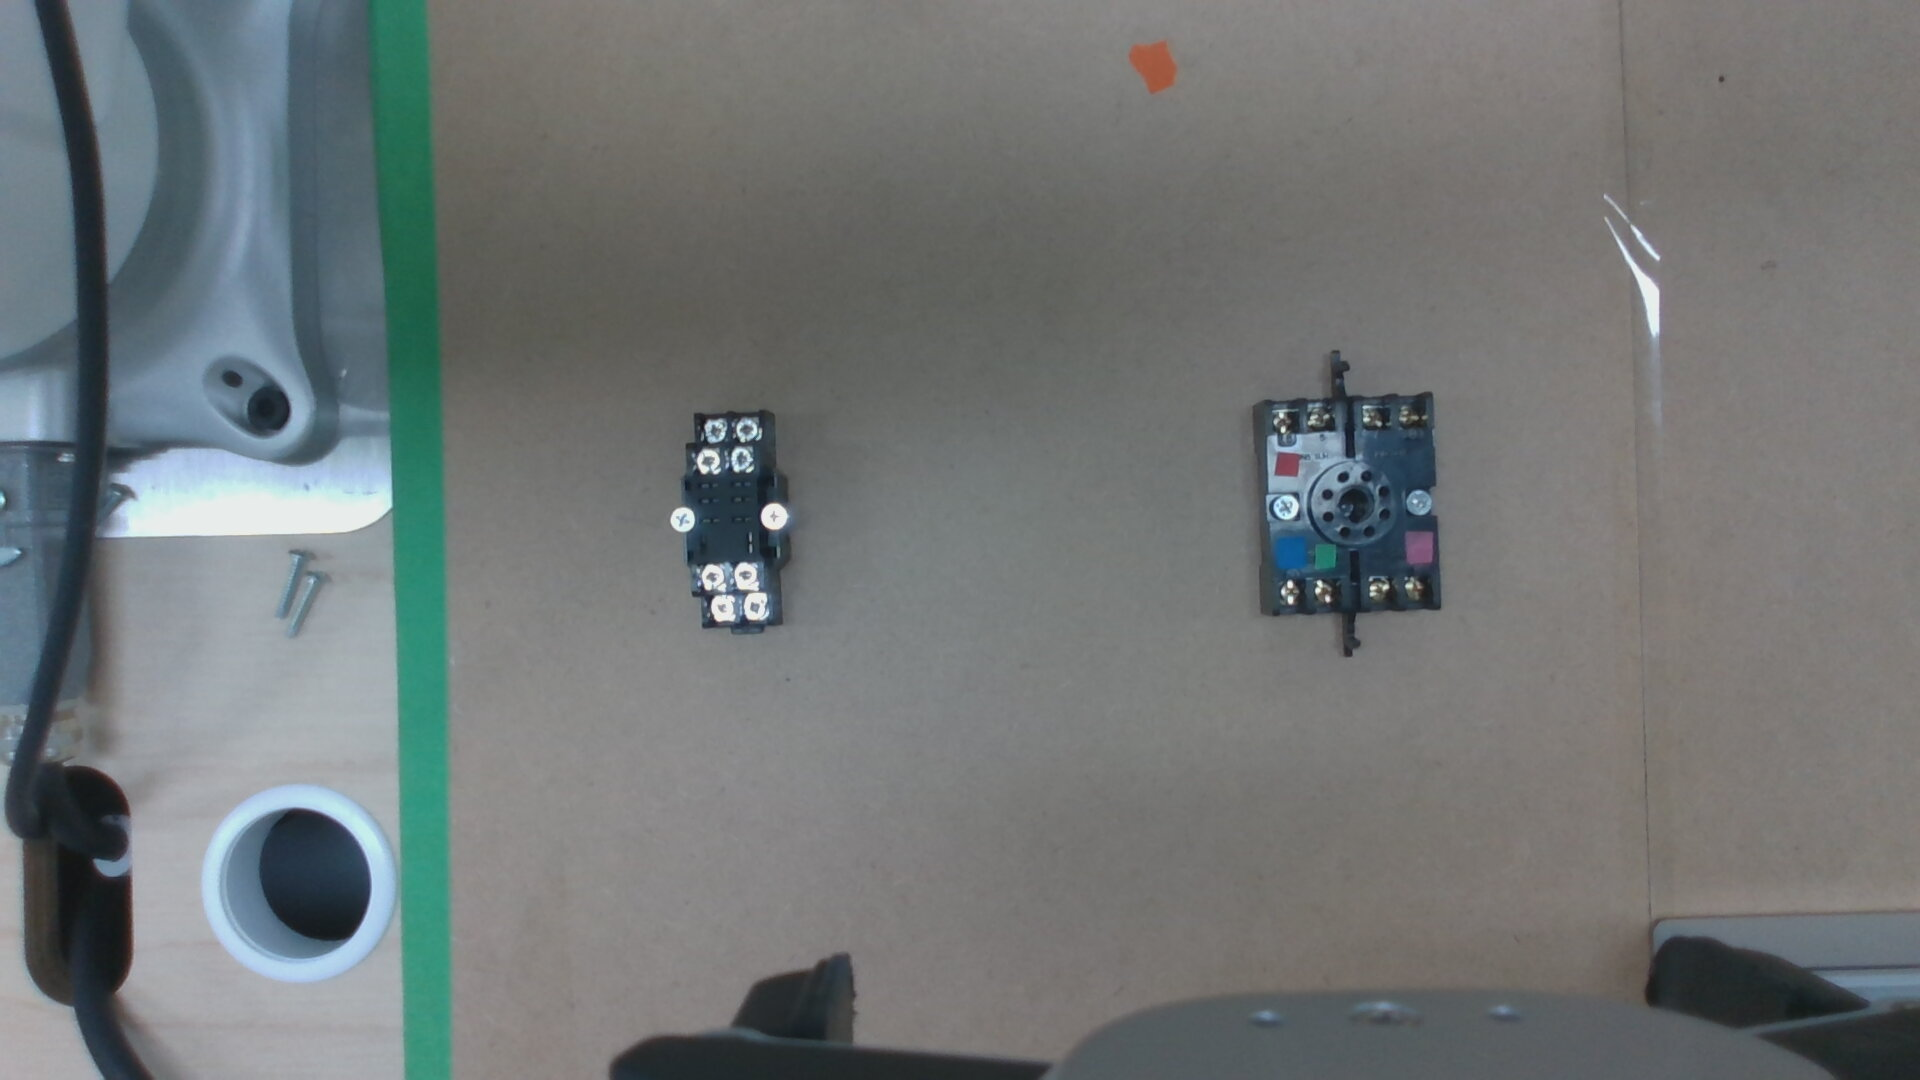relay 3: (735, 418, 760, 438)
relay 4: (703, 421, 725, 440)
relay 5: (741, 596, 767, 617)
relay 6: (709, 597, 732, 618)
relay 7: (735, 564, 756, 587)
relay 8: (699, 564, 724, 588)
